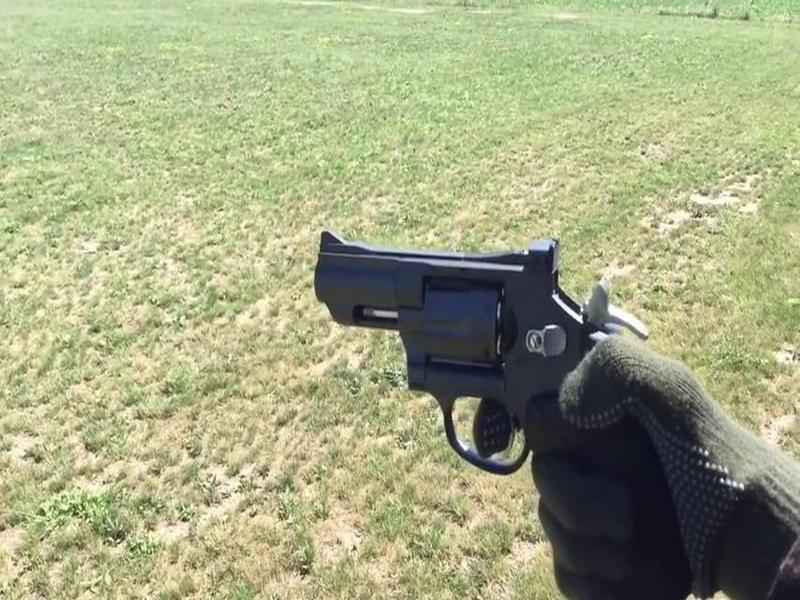Revolver: (298, 199, 656, 512)
